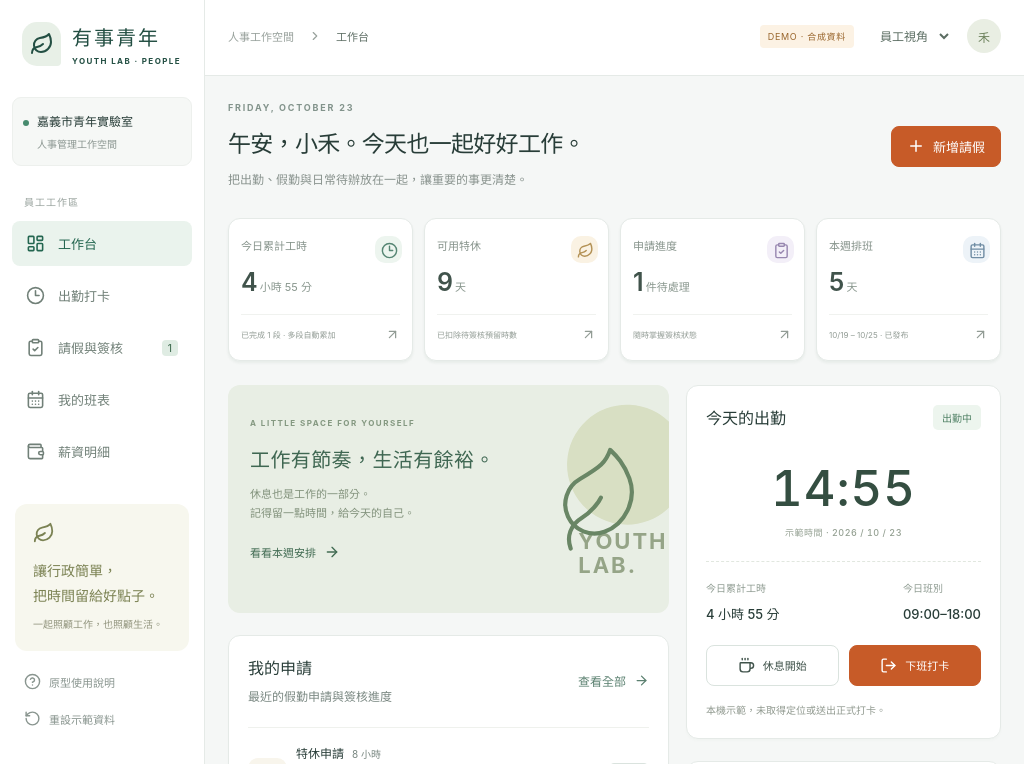
Scenario: 原型操作 › 缺卡可申請補卡，重複入口消失
The width and height of the screenshot is (1024, 764).
Click the button "出勤打卡" at (102, 296), box [12,273,192,318]
(page scrolled)
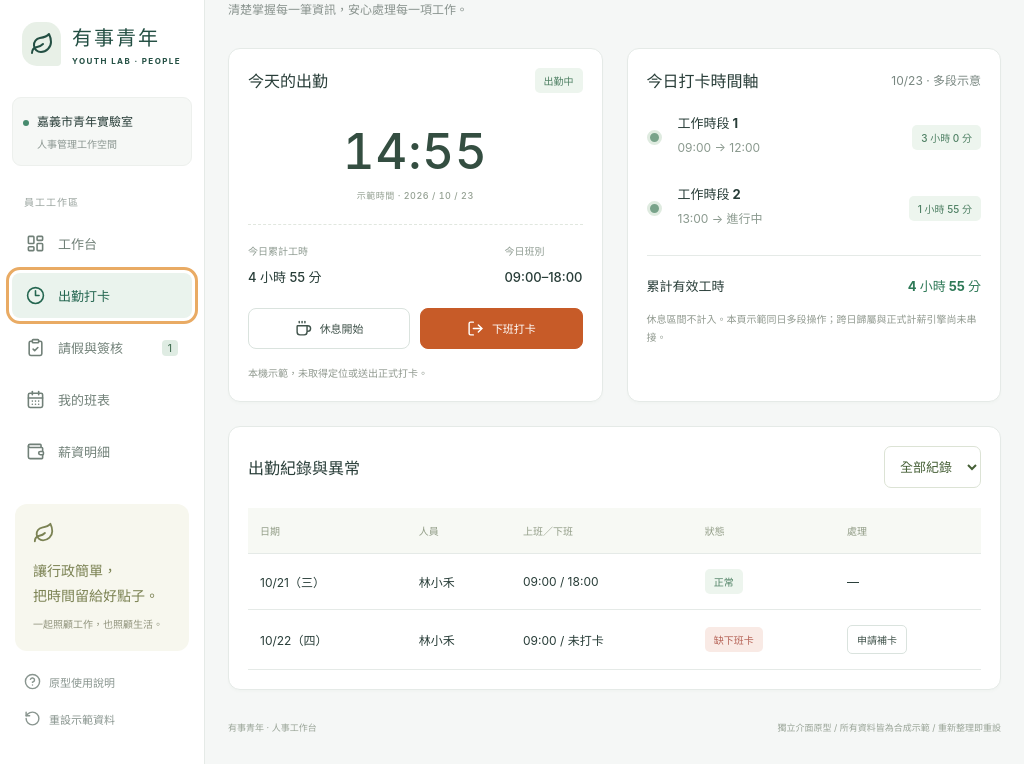
Click the button "申請補卡" at (877, 639), box [847,625,907,654]
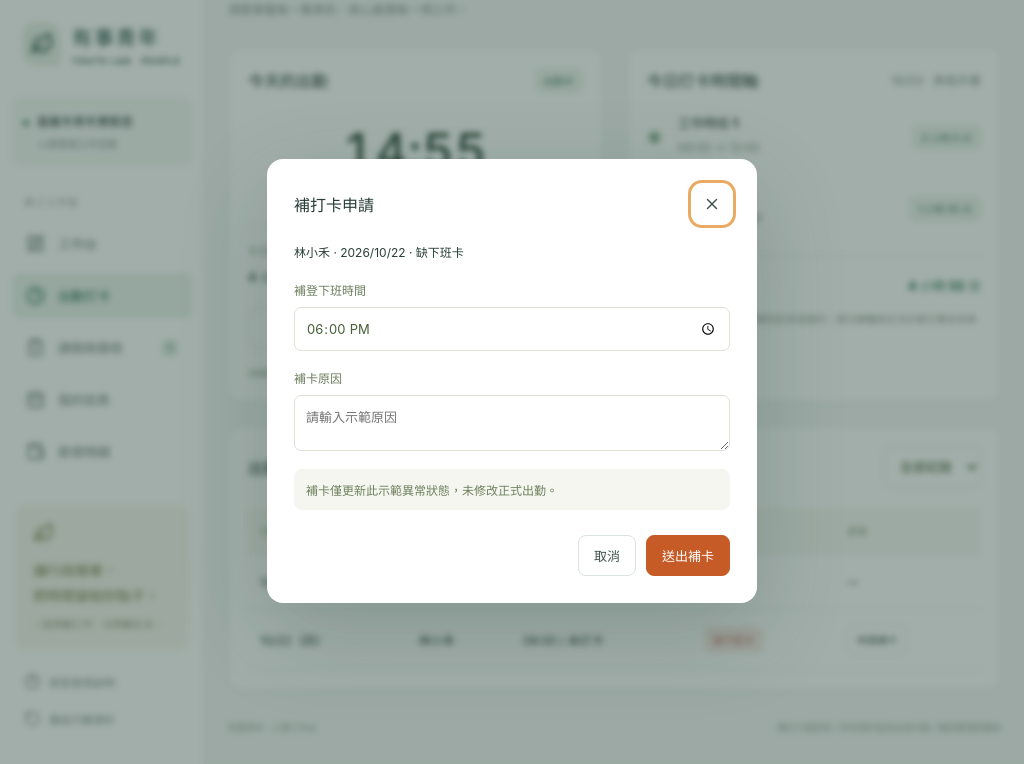
Type "忘記打卡示範" into the text box labelled "補卡原因" at (512, 423), box [294,395,730,451]
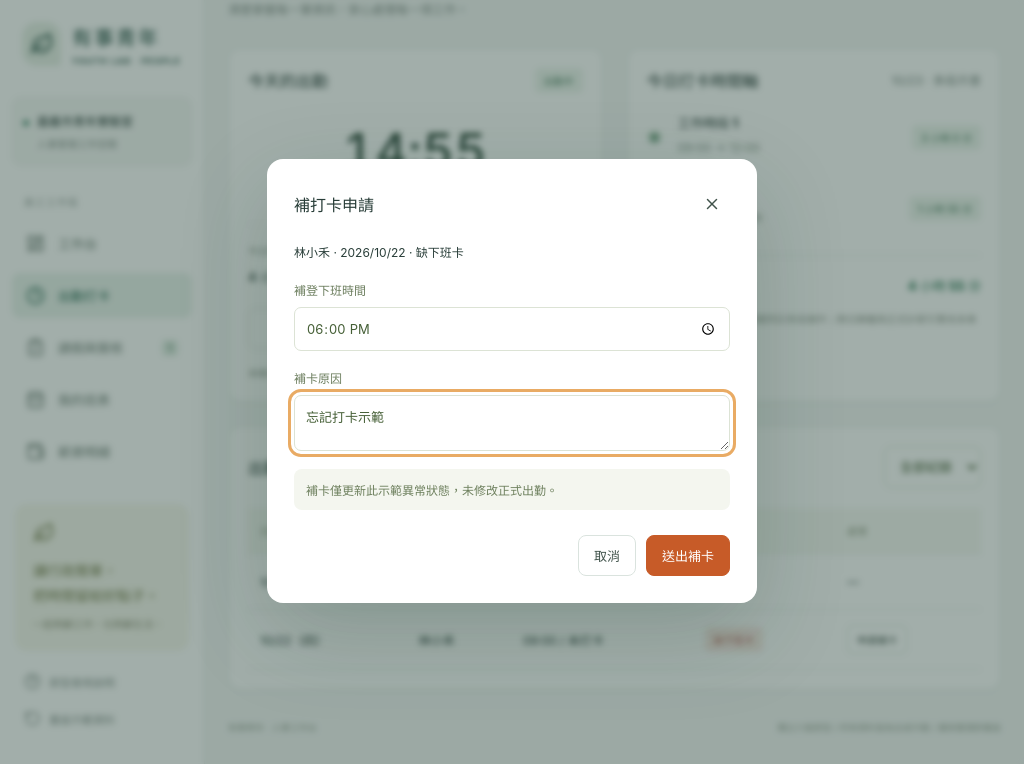
Click the button "送出補卡" at (688, 556), box [646,535,730,576]
(page scrolled)
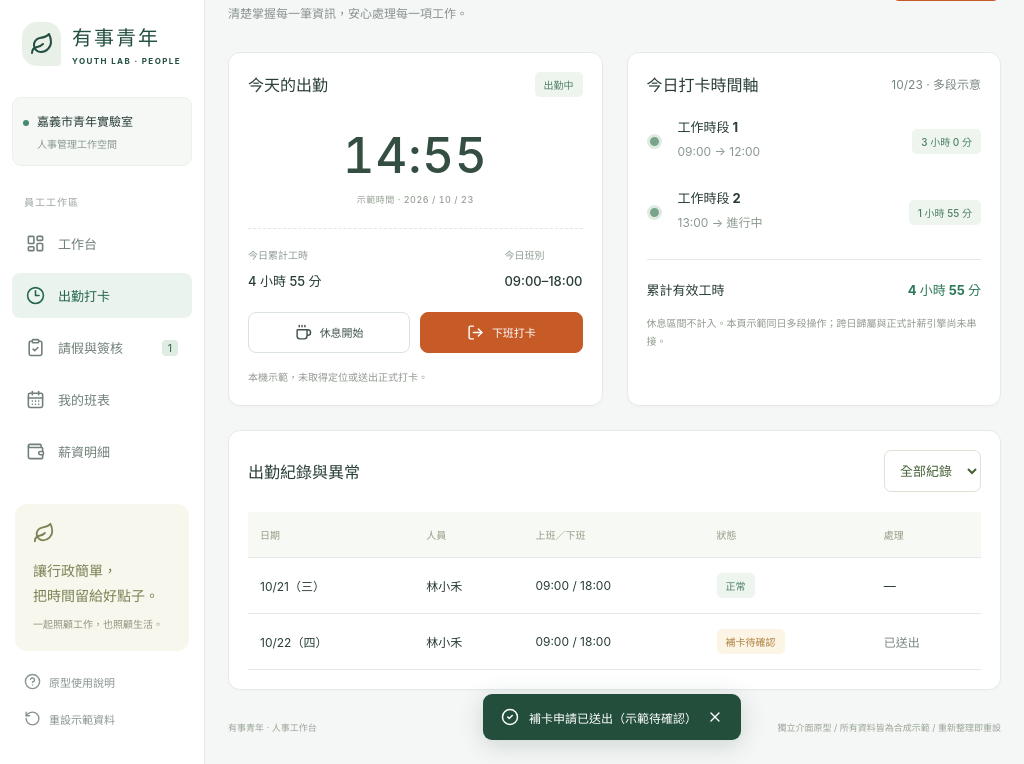
Expected: the text "補卡待確認" is shown, [716,629,784,654]
Expected: the button "申請補卡" is gone
Select "只看異常" in the dropdown named "出勤狀態篩選" at (932, 471), box [884,450,981,492]
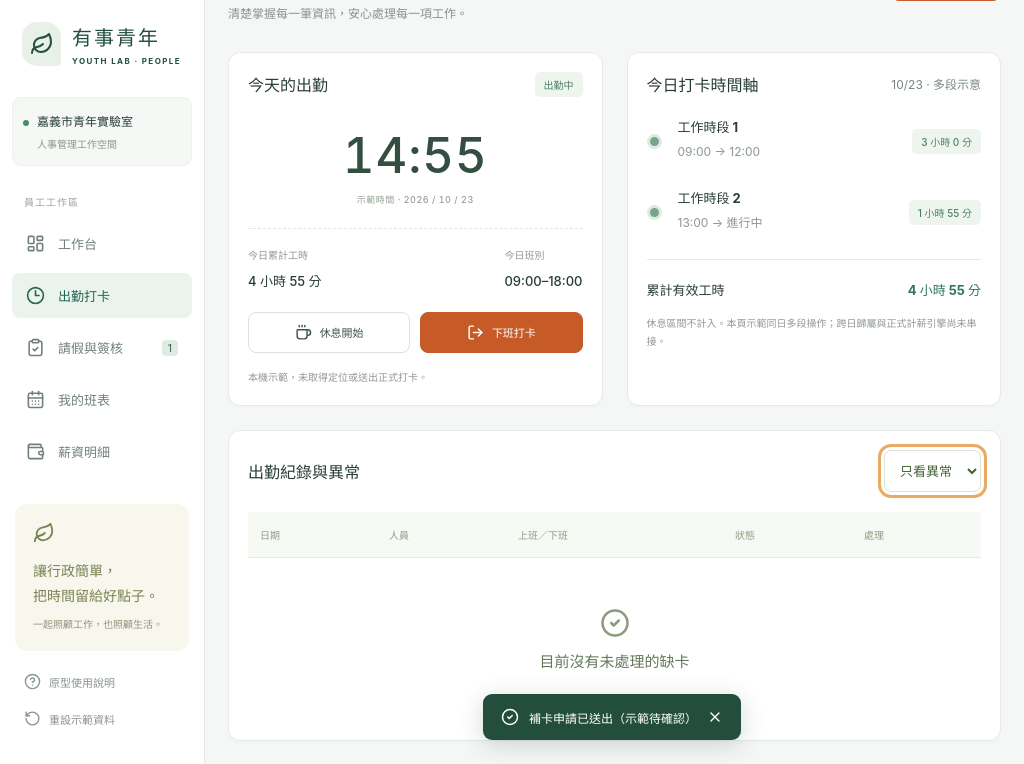
Expected: the text "目前沒有未處理的缺卡" is shown, [540,650,690,671]
